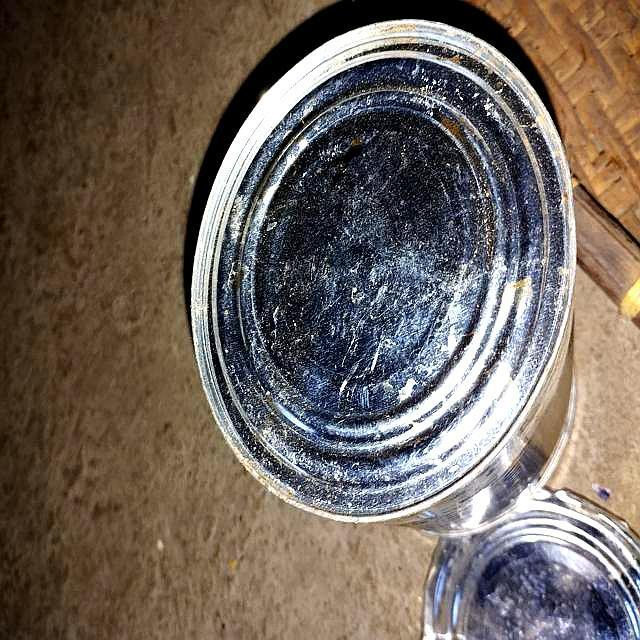Non-biodegradable: (189, 19, 640, 640)
